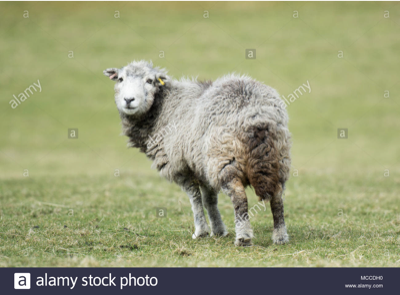koyun: (103, 60, 290, 248)
